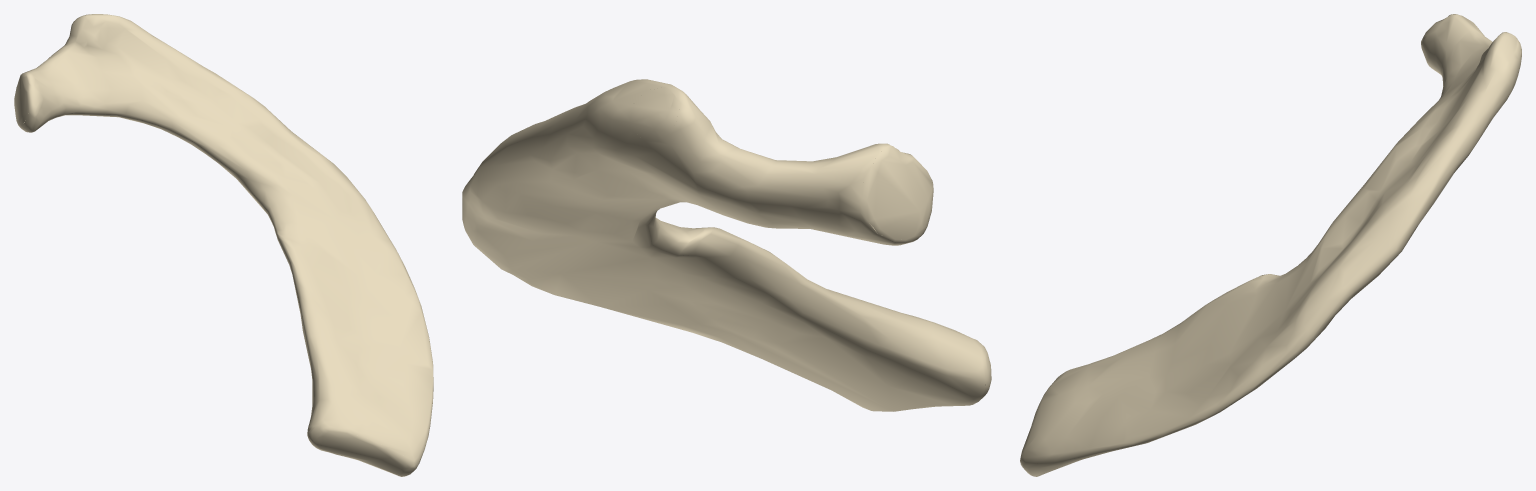
Rendered from esqueleto-first-rib-l.glb.
3 views of the same model, side by side, from view 1: azimuth 30°, elevation 25°; view 2: azimuth 150°, elevation 25°; view 3: azimuth 270°, elevation 25° (orthographic). The views are drawn at different scales.
Visible parts, largest first — view 1: First rib.l; view 2: First rib.l; view 3: First rib.l.
Boxes of the visible parts, bbox=[...] form: First rib.l: bbox=[14, 14, 433, 476]; First rib.l: bbox=[462, 79, 991, 411]; First rib.l: bbox=[1020, 14, 1521, 476].
Size of the model in its own units: 0.0549 by 0.0594 by 0.0707.
